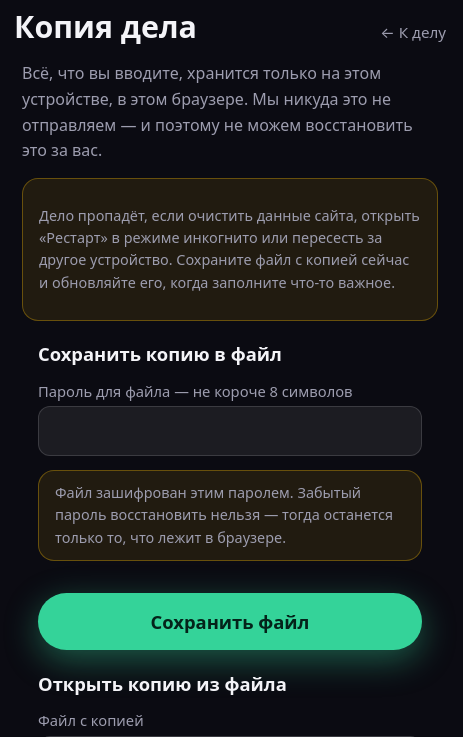
Test: BackupPage › refuses a passphrase too short to protect a passport number
Type "1234" into the password field labelled "Пароль для файла — не короче 8 символов" at (230, 431), box [38,406,422,456]
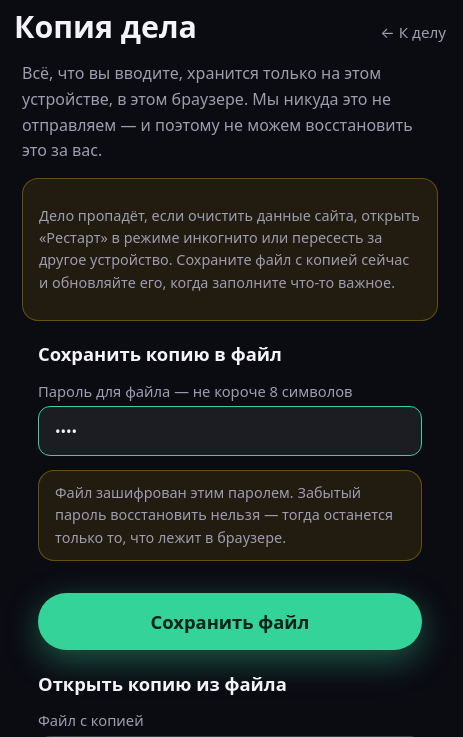
Click the button "Сохранить файл" at (230, 622), box [38,593,422,650]
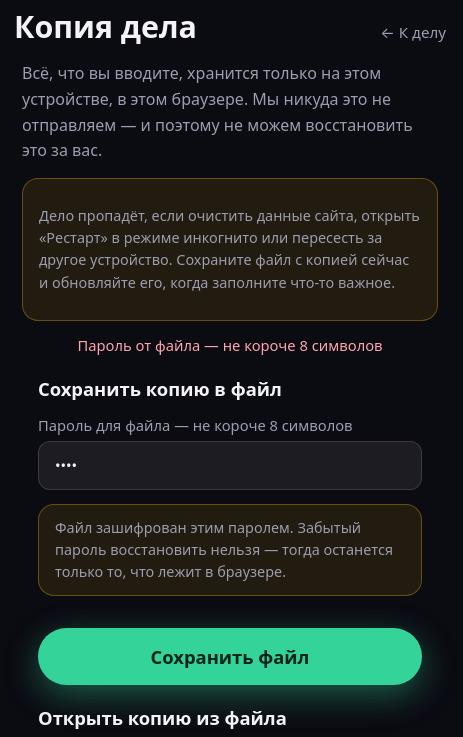
Now the message shows "не короче 8 символов", box [78,335,383,355]
